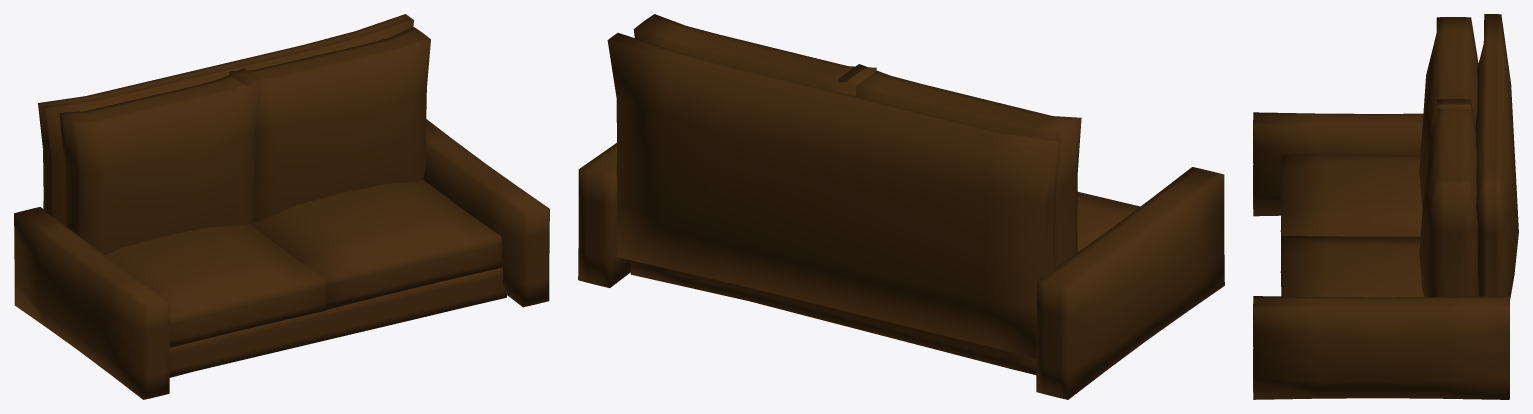
The model's file is Couch.glb.
3 renders of one model, left to right at view 1: azimuth 30°, elevation 25°; view 2: azimuth 150°, elevation 25°; view 3: azimuth 270°, elevation 25°, orthographic. The views are drawn at different scales.
Visible parts, largest first — view 1: Cube.007; view 2: Cube.007; view 3: Cube.007.
Part boxes in pixels (bbox=[...]): Cube.007: bbox=[14, 14, 549, 399]; Cube.007: bbox=[578, 14, 1224, 399]; Cube.007: bbox=[1253, 14, 1518, 399].
Size of the model in its own units: 2.72 by 1.36 by 1.47.
